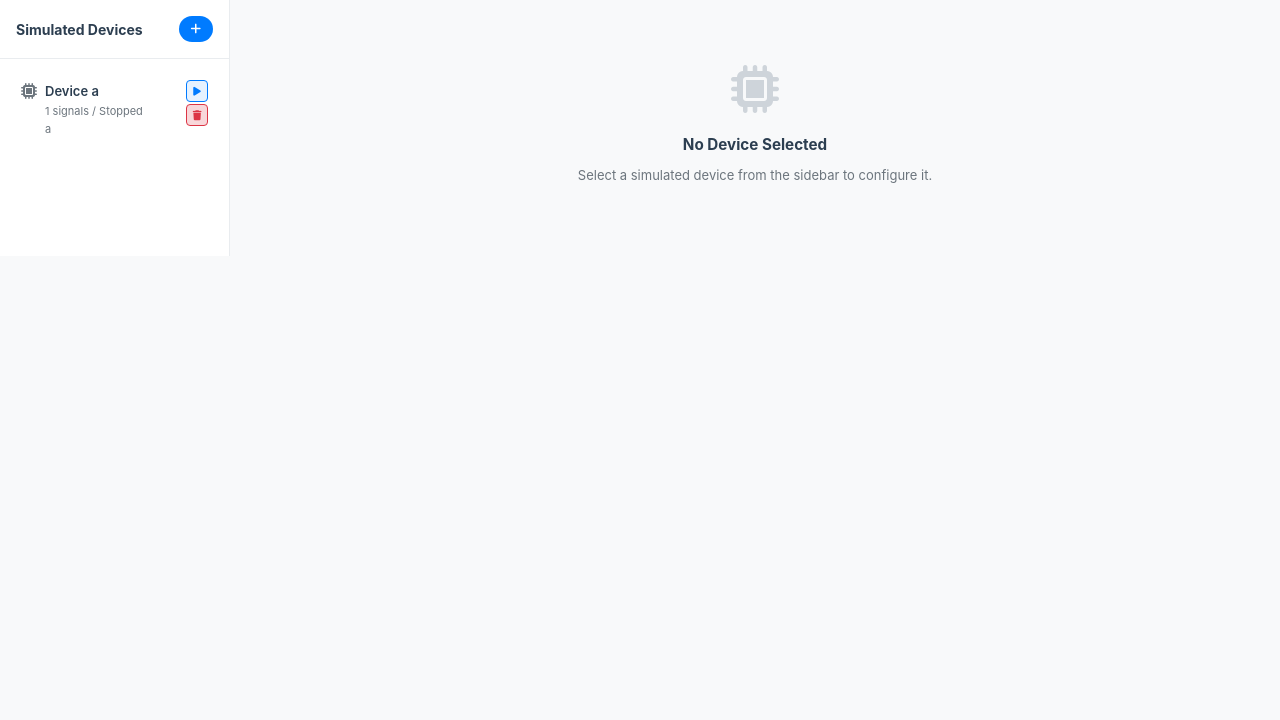
Test: does not persist live samples, stops on disconnect, and isolates connection changes
Step 1. Click the button with class "device-item" → (114, 108), box [8,67,221,149]
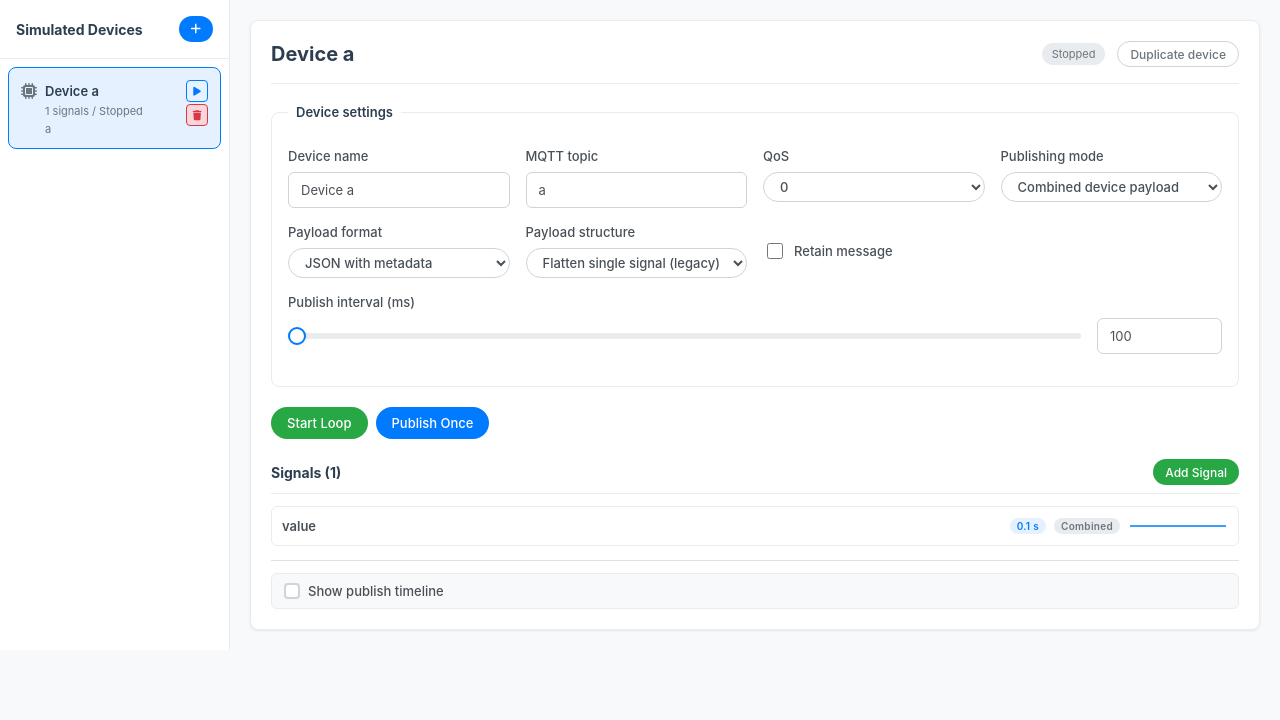
Expected: the button "Start Loop" is shown
Step 2. Click the button "Start Loop" → (319, 423), box [271,407,368,439]
Wait 800 ms
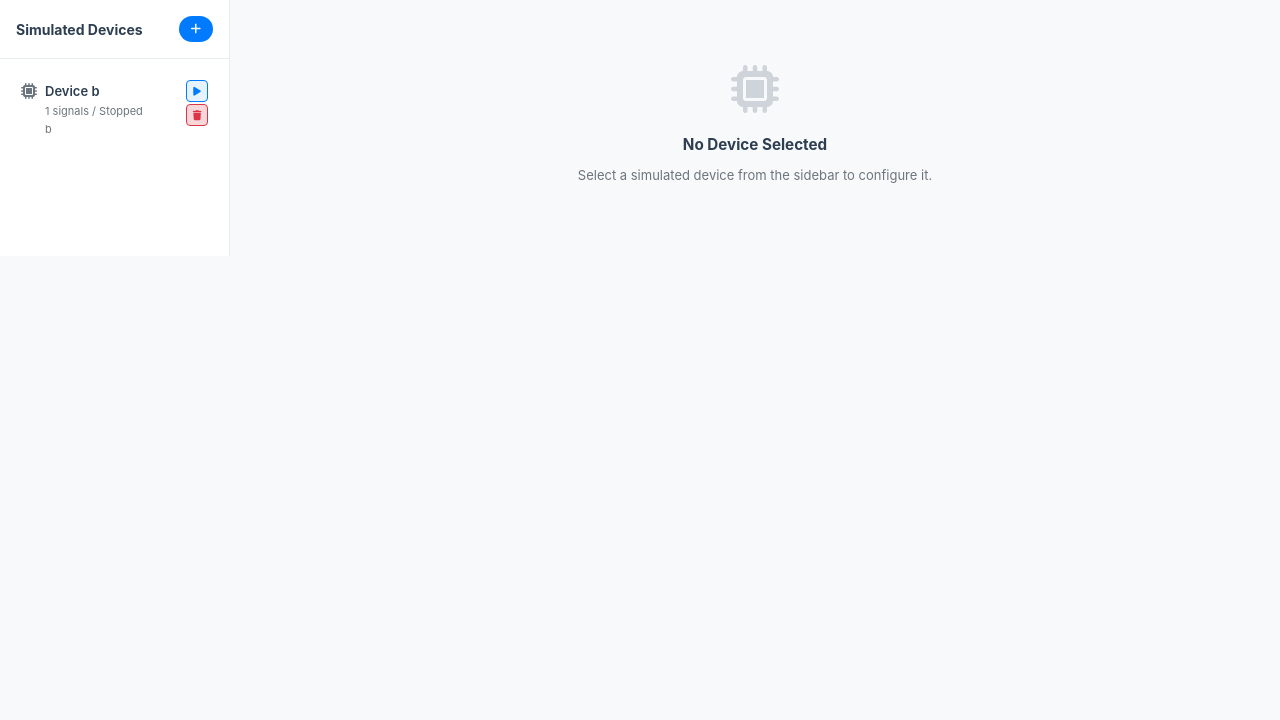
Expected: the text "Device b" is shown, [45,83,100,99]
